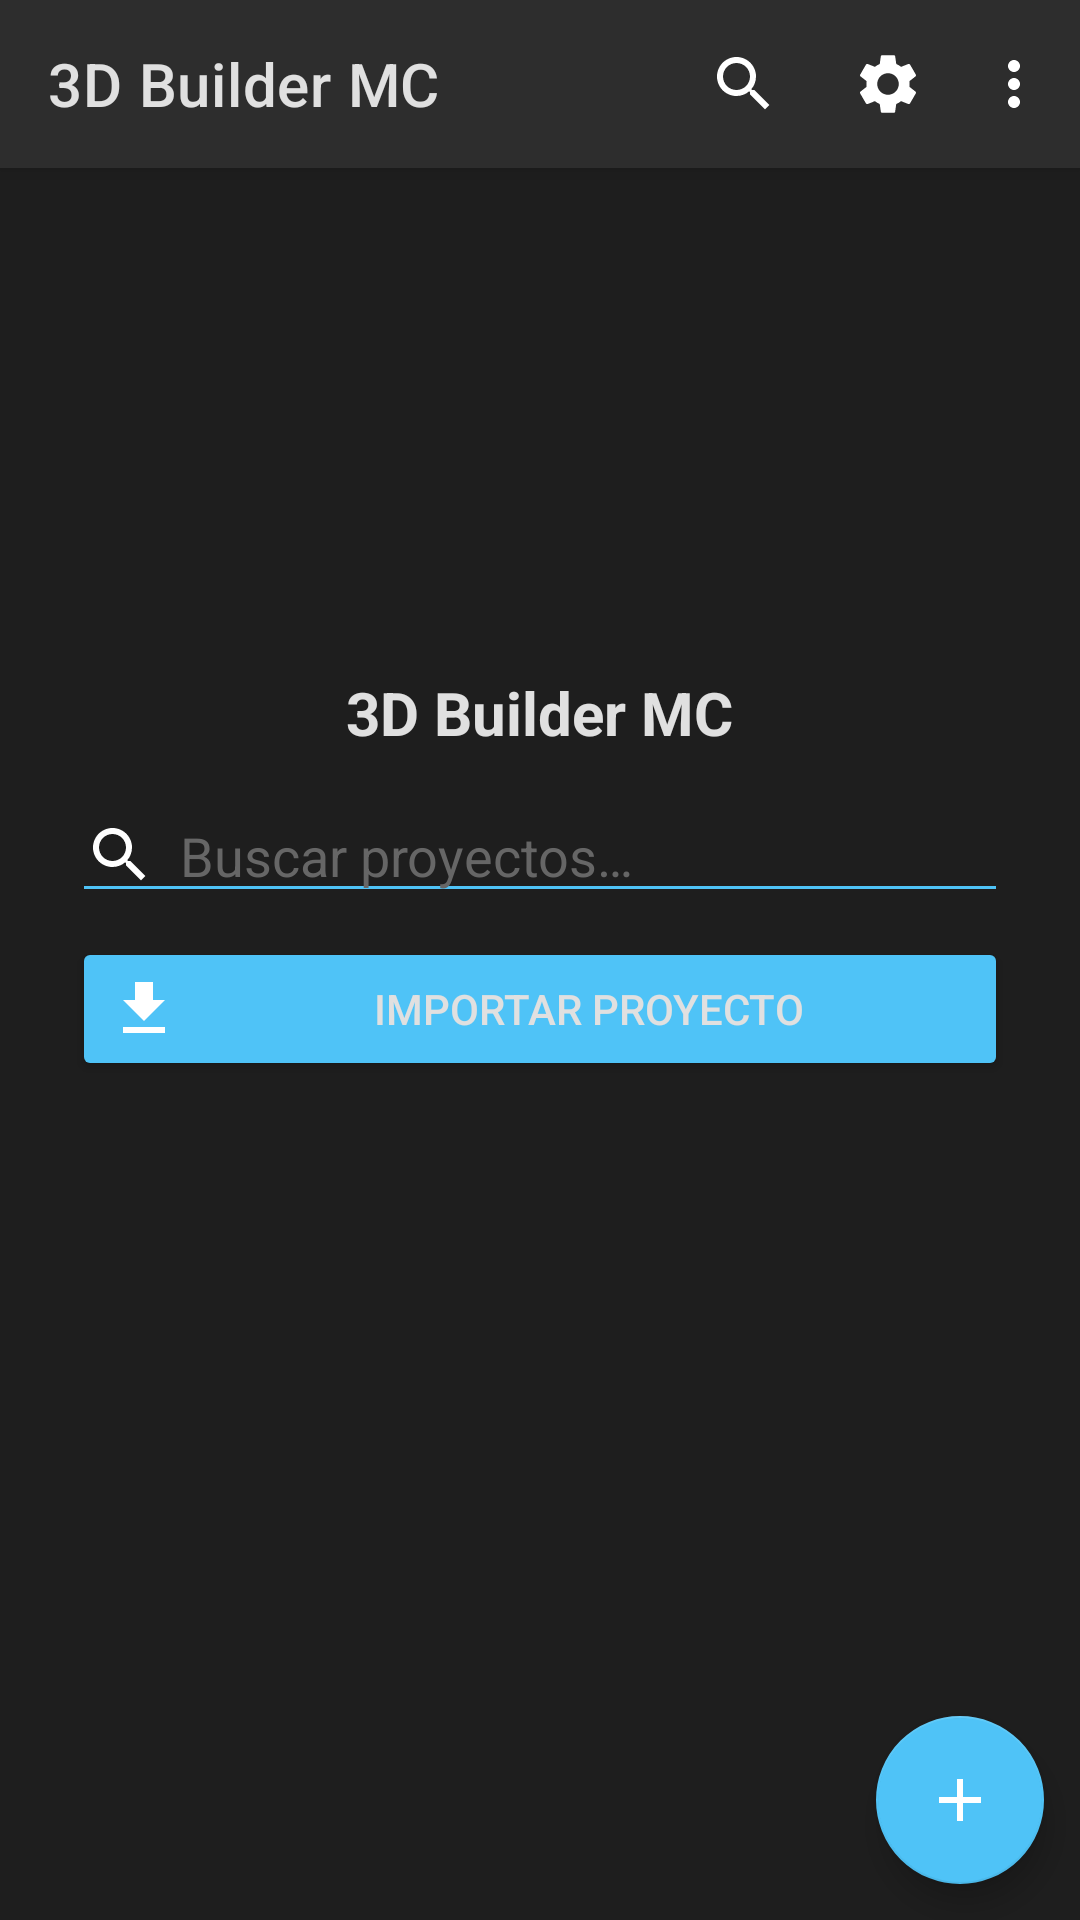

Point at icon controls on the screen. Image size 1080×1920, points as (x=x, y=y).
Nuevo Proyecto: (x=960, y=1800)
